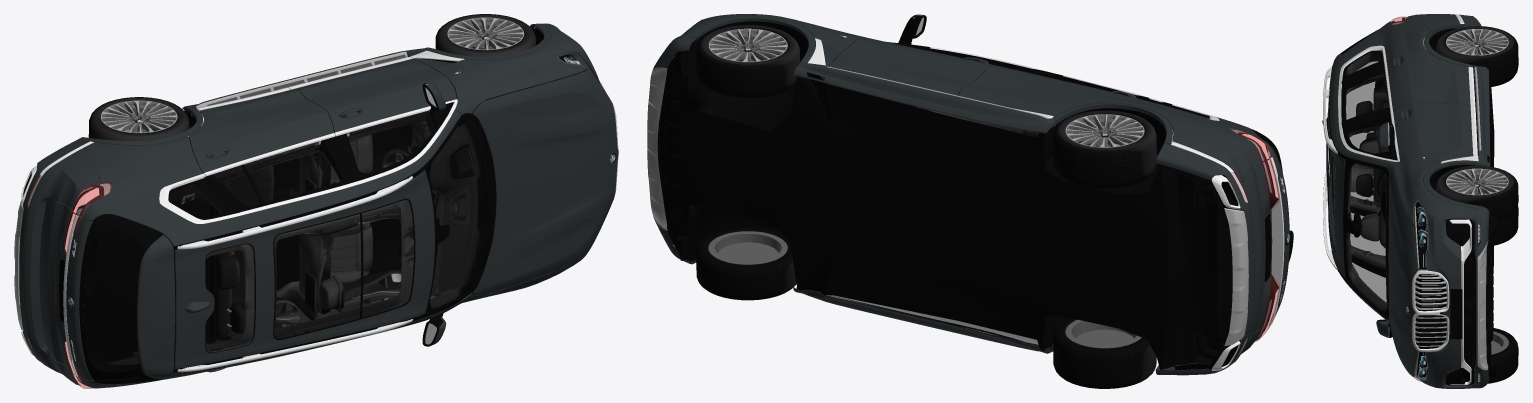
3 renders of one model, left to right at view 1: azimuth 30°, elevation 25°; view 2: azimuth 150°, elevation 25°; view 3: azimuth 270°, elevation 25°, orthographic. The views are drawn at different scales.
Parts seen in each view (by area): view 1: body_mesh, wheel_RL_mesh, wheel_FL_mesh; view 2: body_mesh, wheel_RL_mesh, wheel_FL_mesh, wheel_FR_mesh, wheel_RR_mesh; view 3: body_mesh, wheel_RL_mesh, wheel_FL_mesh, wheel_FR_mesh, wheel_RR_mesh.
Boxes of the visible parts, x1,y1,x2,y2 form: body_mesh: [14, 23, 618, 388]; wheel_RL_mesh: [88, 97, 189, 140]; wheel_FL_mesh: [435, 14, 535, 56]; body_mesh: [647, 14, 1293, 375]; wheel_RL_mesh: [1053, 110, 1156, 188]; wheel_FL_mesh: [696, 25, 799, 98]; wheel_FR_mesh: [696, 227, 796, 300]; wheel_RR_mesh: [1053, 317, 1156, 388]; body_mesh: [1322, 14, 1498, 388]; wheel_RL_mesh: [1436, 26, 1518, 87]; wheel_FL_mesh: [1436, 165, 1518, 220]; wheel_FR_mesh: [1488, 328, 1518, 383]; wheel_RR_mesh: [1494, 206, 1518, 245].
Bounding box in the file's own units: 5.15 × 2.24 × 1.86.
32 materials, 10 textured.
